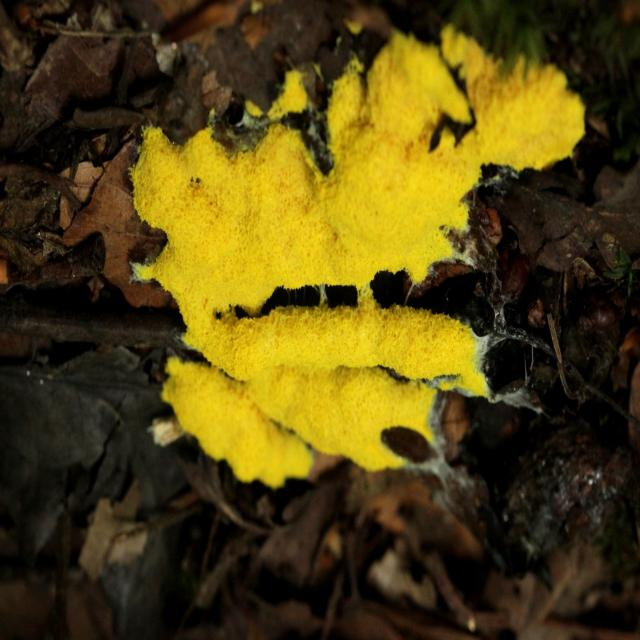Dog_vomit_slime_mold: (127, 0, 596, 502)
